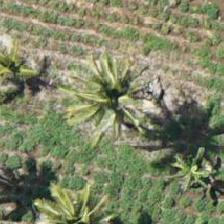coconut_tree: (63, 56, 153, 146), (152, 129, 223, 219), (0, 26, 52, 116), (32, 175, 122, 223)
